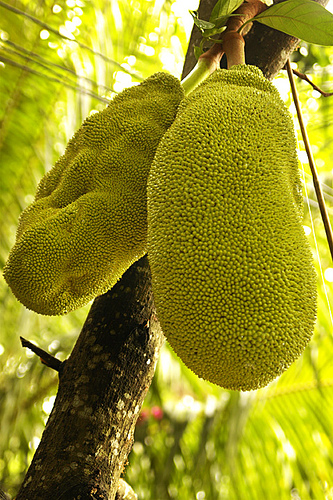jackfruit: (148, 18, 324, 397), (0, 70, 185, 318)
